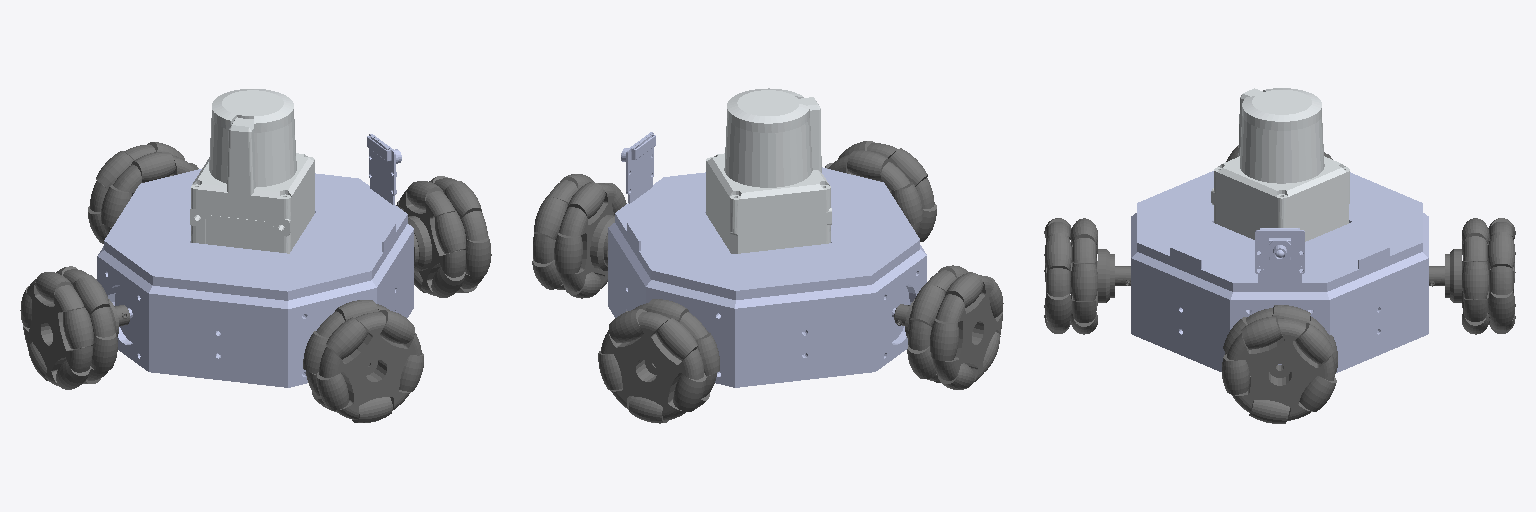
robot.urdf — omni:
<?xml version="1.0" encoding="utf-8"?>
<!-- This URDF was automatically created by SolidWorks to URDF Exporter! Originally created by [author] ([email redacted]) 
     Commit Version: 1.6.0-4-g7f85cfe  Build Version: 1.6.7995.38578
     For more information, please see http://wiki.ros.org/sw_urdf_exporter -->
<robot
  name="omni">
  <link name="base_footprint"/>
  <!-- Connect base_footprint to base_link -->
  <joint name="base_footprint_to_base_link" type="fixed">
    <parent link="base_footprint"/>
    <child link="base_link"/>
    <origin xyz="0 0 0.015" rpy="0 0 0"/> <!-- Adjust z to bring base_footprint to ground level -->
  </joint>
  <link
    name="base_link">
    <inertial>
      <origin
        xyz="4.2217616858381E-05 -1.36406168309289E-05 0.0256330633245304"
        rpy="0 0 0" />
      <mass
        value="0.776934117883959" />
      <inertia
        ixx="0.0012510407641893"
        ixy="-2.12973888399047E-08"
        ixz="-8.13720595075766E-07"
        iyy="0.00125164353489153"
        iyz="2.37085382610402E-07"
        izz="0.00220875992971978" />
    </inertial>
    <visual>
      <origin
        xyz="0 0 0"
        rpy="0 0 0" />
      <geometry>
        <mesh
          filename="package://omni_diff/meshes/omni/base_link.STL" />
      </geometry>
      <material
        name="">
        <color
          rgba="0.792156862745098 0.819607843137255 0.933333333333333 1" />
      </material>
    </visual>
    <collision>
      <origin
        xyz="0 0 0"
        rpy="0 0 0" />
      <geometry>
        <mesh
          filename="package://omni_diff/meshes/omni/base_link.STL" />
      </geometry>
    </collision>
  </link>
  <link
    name="wheel_1_link">
    <inertial>
      <origin
        xyz="-7.73331437414759E-07 1.36449829977667E-06 0.00250496373630286"
        rpy="0 0 0" />
      <mass
        value="0.0573416524778113" />
      <inertia
        ixx="1.13223293476616E-05"
        ixy="-2.95114751911968E-09"
        ixz="3.32124459351346E-10"
        iyy="1.13254060859156E-05"
        iyz="-5.85053936638385E-10"
        izz="2.1083778131878E-05" />
    </inertial>
    <visual>
      <origin
        xyz="0 0 0"
        rpy="0 0 0" />
      <geometry>
        <mesh
          filename="package://omni_diff/meshes/omni/wheel_1_link.STL" />
      </geometry>
      <material
        name="">
        <color
          rgba="0.498039215686275 0.498039215686275 0.498039215686275 1" />
      </material>
    </visual>
    <collision>
      <origin
        xyz="0 0 0"
        rpy="0 0 0" />
      <geometry>
        <mesh
          filename="package://omni_diff/meshes/omni/wheel_1_link.STL" />
      </geometry>
    </collision>
  </link>
  <joint
    name="wheel_1_joint"
    type="continuous">
    <origin
      xyz="0 -0.100246212024587 0.0205"
      rpy="1.57079632679491 0 0" />
    <parent
      link="base_link" />
    <child
      link="wheel_1_link" />
    <axis
      xyz="0 0 1" />
  </joint>
  <link
    name="wheel_2_link">
    <inertial>
      <origin
        xyz="-7.17667867564109E-07 -1.39141786776459E-06 0.00250496280406023"
        rpy="0 0 0" />
      <mass
        value="0.0573416543957745" />
      <inertia
        ixx="1.1322094172155E-05"
        ixy="2.81602792280367E-09"
        ixz="3.07984717325495E-10"
        iyy="1.13256412752839E-05"
        iyz="5.98180667761317E-10"
        izz="2.10837781360202E-05" />
    </inertial>
    <visual>
      <origin
        xyz="0 0 0"
        rpy="0 0 0" />
      <geometry>
        <mesh
          filename="package://omni_diff/meshes/omni/wheel_2_link.STL" />
      </geometry>
      <material
        name="">
        <color
          rgba="0.498039215686275 0.498039215686275 0.498039215686275 1" />
      </material>
    </visual>
    <collision>
      <origin
        xyz="0 0 0"
        rpy="0 0 0" />
      <geometry>
        <mesh
          filename="package://omni_diff/meshes/omni/wheel_2_link.STL" />
      </geometry>
    </collision>
  </link>
  <joint
    name="wheel_2_joint"
    type="continuous">
    <origin
      xyz="0 0.100246212024587 0.0205"
      rpy="-1.5707963267949 0 0" />
    <parent
      link="base_link" />
    <child
      link="wheel_2_link" />
    <axis
      xyz="0 0 1" />
  </joint>
  <link
    name="wheel_3_link">
    <inertial>
      <origin
        xyz="1.51908366138875E-06 3.88345460337891E-07 0.00250496393125138"
        rpy="0 0 0" />
      <mass
        value="0.0573416520711861" />
      <inertia
        ixx="1.13268774307609E-05"
        ixy="1.42026119981065E-09"
        ixz="-6.51892959609373E-10"
        iyy="1.13208580119281E-05"
        iyz="-1.66006995154101E-10"
        izz="2.10837781377862E-05" />
    </inertial>
    <visual>
      <origin
        xyz="0 0 0"
        rpy="0 0 0" />
      <geometry>
        <mesh
          filename="package://omni_diff/meshes/omni/wheel_3_link.STL" />
      </geometry>
      <material
        name="">
        <color
          rgba="0.498039215686275 0.498039215686275 0.498039215686275 1" />
      </material>
    </visual>
    <collision>
      <origin
        xyz="0 0 0"
        rpy="0 0 0" />
      <geometry>
        <mesh
          filename="package://omni_diff/meshes/omni/wheel_3_link.STL" />
      </geometry>
    </collision>
  </link>
  <joint
    name="wheel_3_joint"
    type="continuous">
    <origin
      xyz="0.100246212024587 0 0.0205"
      rpy="-1.5707963267949 0 -1.5707963267949" />
    <parent
      link="base_link" />
    <child
      link="wheel_3_link" />
    <axis
      xyz="0 0 1" />
  </joint>
  <link
    name="wheel_4_link">
    <inertial>
      <origin
        xyz="5.93270891108277E-07 1.45176169149761E-06 0.00250496284038063"
        rpy="0 0 0" />
      <mass
        value="0.0573416543210749" />
      <inertia
        ixx="1.13216344271888E-05"
        ixy="2.46736600754328E-09"
        ixz="-2.54928006956048E-10"
        iyy="1.13261010157933E-05"
        iyz="-6.22521577202223E-10"
        izz="2.1083778134734E-05" />
    </inertial>
    <visual>
      <origin
        xyz="0 0 0"
        rpy="0 0 0" />
      <geometry>
        <mesh
          filename="package://omni_diff/meshes/omni/wheel_4_link.STL" />
      </geometry>
      <material
        name="">
        <color
          rgba="0.498039215686275 0.498039215686275 0.498039215686275 1" />
      </material>
    </visual>
    <collision>
      <origin
        xyz="0 0 0"
        rpy="0 0 0" />
      <geometry>
        <mesh
          filename="package://omni_diff/meshes/omni/wheel_4_link.STL" />
      </geometry>
    </collision>
  </link>
  <joint
    name="wheel_4_joint"
    type="continuous">
    <origin
      xyz="-0.100246212024587 0 0.0205"
      rpy="-1.5707963267949 0 1.57079632679491" />
    <parent
      link="base_link" />
    <child
      link="wheel_4_link" />
    <axis
      xyz="0 0 1" />
  </joint>
  <link
    name="camera_link">
    <inertial>
      <origin
        xyz="-0.00570924275550753 2.63369360276738E-05 -0.000162546959287517"
        rpy="0 0 0" />
      <mass
        value="0.00154848311785293" />
      <inertia
        ixx="9.81433995869744E-08"
        ixy="1.55151579933722E-11"
        ixz="2.74786653138132E-09"
        iyy="6.15272705564258E-08"
        iyz="3.76721137527356E-10"
        izz="5.63299136111501E-08" />
    </inertial>
    <visual>
      <origin
        xyz="0 0 0"
        rpy="0 0 0" />
      <geometry>
        <mesh
          filename="package://omni_diff/meshes/omni/camera_link.STL" />
      </geometry>
      <material
        name="">
        <color
          rgba="0.792156862745098 0.819607843137255 0.933333333333333 1" />
      </material>
    </visual>
    <collision>
      <origin
        xyz="0 0 0"
        rpy="0 0 0" />
      <geometry>
        <mesh
          filename="package://omni_diff/meshes/omni/camera_link.STL" />
      </geometry>
    </collision>
  </link>
  <joint
    name="camera_joint"
    type="fixed">
    <origin
      xyz="0.0775462120245874 0 0.0695"
      rpy="0 0 0" />
    <parent
      link="base_link" />
    <child
      link="camera_link" />
    <axis
      xyz="0 0 0" />
  </joint>
  <link
    name="imu_link">
    <inertial>
      <origin
        xyz="4.57501099858648E-05 -4.57501099858787E-05 0.000488343705367662"
        rpy="0 0 0" />
      <mass
        value="0.000302850245192701" />
      <inertia
        ixx="7.75930196249146E-09"
        ixy="-1.72720502873062E-09"
        ixz="6.34808961588485E-13"
        iyy="7.75930196249146E-09"
        iyz="-6.34808961588458E-13"
        izz="1.54683861524513E-08" />
    </inertial>
    <visual>
      <origin
        xyz="0 0 0"
        rpy="0 0 0" />
      <geometry>
        <mesh
          filename="package://omni_diff/meshes/omni/imu_link.STL" />
      </geometry>
      <material
        name="">
        <color
          rgba="0.666666666666667 0.698039215686274 0.768627450980392 1" />
      </material>
    </visual>
    <collision>
      <origin
        xyz="0 0 0"
        rpy="0 0 0" />
      <geometry>
        <mesh
          filename="package://omni_diff/meshes/omni/imu_link.STL" />
      </geometry>
    </collision>
  </link>
  <joint
    name="imu_joint"
    type="fixed">
    <origin
      xyz="-0.000173723647626037 0.000173723647625995 0.00400000000000001"
      rpy="0 0 0" />
    <parent
      link="base_link" />
    <child
      link="imu_link" />
    <axis
      xyz="0 0 0" />
  </joint>
  <link
    name="lidar_link">
    <inertial>
      <origin
        xyz="-6.08162525894684E-09 -0.00258459265937456 -0.0192244596068266"
        rpy="0 0 0" />
      <mass
        value="0.36416636212167" />
      <inertia
        ixx="9.30309683309989E-05"
        ixy="-3.45612498193269E-11"
        ixz="3.27004824168747E-11"
        iyy="9.15048641049864E-05"
        iyz="1.20873061883238E-06"
        izz="0.000123189101408121" />
    </inertial>
    <visual>
      <origin
        xyz="0 0 0"
        rpy="0 0 0" />
      <geometry>
        <mesh
          filename="package://omni_diff/meshes/omni/lidar_link.STL" />
      </geometry>
      <material
        name="">
        <color
          rgba="0.898039215686275 0.917647058823529 0.929411764705882 1" />
      </material>
    </visual>
    <collision>
      <origin
        xyz="0 0 0"
        rpy="0 0 0" />
      <geometry>
        <mesh
          filename="package://omni_diff/meshes/omni/lidar_link.STL" />
      </geometry>
    </collision>
  </link>
  <joint
    name="lidar_joint"
    type="fixed">
    <origin
      xyz="0.000506090323826577 0.00262741066738623 0.0951306817990901"
      rpy="0 0 -0.78539816339745" />
    <parent
      link="base_link" />
    <child
      link="lidar_link" />
    <axis
      xyz="0 0 0" />
  </joint>
   <!-- Depth Camera Plugin -->
<gazebo reference="camera_link">
  <sensor name="depth_camera_sensor" type="depth">
    <always_on>1</always_on>
    <update_rate>30</update_rate>
    <camera>
      <horizontal_fov>1.0472</horizontal_fov>
      <image>
        <width>640</width>
        <height>480</height>
        <format>R8G8B8</format>
      </image>
      <clip>
        <near>0.1</near>
        <far>100</far>
      </clip>
    </camera>
    <plugin name="depth_camera_plugin" filename="libgazebo_ros_depth_camera.so">
      <robotNamespace>/camera/depth</robotNamespace>
      <imageTopicName>image_raw</imageTopicName>
      <depthImageTopicName>depth/image_raw</depthImageTopicName>
      <pointCloudTopicName>depth/points</pointCloudTopicName>
      <cameraInfoTopicName>camera_info</cameraInfoTopicName>
      <frameName>camera_link</frameName>
    </plugin>
  </sensor>
</gazebo>
  <!-- LiDAR Plugin -->
  <gazebo reference="lidar_link">
    <material>Gazebo/FlatBlack</material>
    <sensor type="ray" name="head_rplidar_sensor">
      <pose>0 0 0 0 0 0</pose>
      <visualize>true</visualize>
      <update_rate>10.0</update_rate> 
      <ray>
        <scan>
          <horizontal>
            <samples>720</samples> 
            <resolution>1</resolution>
            <min_angle>-3.1415</min_angle> 
            <max_angle>3.1415</max_angle>
          </horizontal>
        </scan>
        <range>
          <min>0.120</min>
          <max>10</max>
          <resolution>0.015</resolution>
        </range>
        <noise>
          <type>gaussian</type>
          <mean>0.0</mean>
          <stddev>0.01</stddev>
        </noise>
      </ray>
      <plugin name="gazebo_ros_head_rplidar_controller" filename="libgazebo_ros_laser.so">
        <topicName>/scan</topicName>
        <frameName>lidar_link</frameName>
        <gaussianNoise>0.01</gaussianNoise>
      </plugin>
    </sensor>
  </gazebo>

  <!-- Planar Move Plugin -->
  <gazebo>
    <plugin name="planar_move" filename="libgazebo_ros_planar_move.so">
      <ros>
        <namespace>/</namespace>
        <remapping>cmd_vel:=/cmd_vel</remapping>
        <remapping>odom:=/odom</remapping>
      </ros>
      <commandTopic>cmd_vel</commandTopic>
      <odometryTopic>odom</odometryTopic>
      <odometryFrame>odom</odometryFrame>
      <robotBaseFrame>base_footprint</robotBaseFrame>
      <odometryRate>100.0</odometryRate>
      <cmdTimeout>1.0</cmdTimeout>
      <publishOdomTF>true</publishOdomTF>
      <velocityDecay>0.01</velocityDecay>
    </plugin>
  </gazebo>

  <!-- IMU Plugin -->
  <gazebo reference="imu_link">
    <gravity>true</gravity>
    <sensor name="imu_sensor" type="imu">
      <always_on>true</always_on>
      <update_rate>100</update_rate>
      <visualize>true</visualize>
      <topic>__default_topic__</topic>
      <plugin filename="libgazebo_ros_imu_sensor.so" name="imu_plugin">
        <topicName>imu</topicName>
        <bodyName>imu_link</bodyName>
        <updateRateHZ>10.0</updateRateHZ>
        <gaussianNoise>0.0</gaussianNoise>
        <xyzOffset>0 0 0</xyzOffset>
        <rpyOffset>0 0 0</rpyOffset>
        <frameName>imu_link</frameName>
        <initialOrientationAsReference>false</initialOrientationAsReference>
      </plugin>
      <pose>0 0 0 0 0 0</pose>
    </sensor>
  </gazebo>
</robot>

--- Render facts (derived) ---
3 views of the same robot in one strip: view 1: azimuth 30°, elevation 25°; view 2: azimuth 150°, elevation 25°; view 3: azimuth 270°, elevation 25° (orthographic).
Robot: omni — 9 links, 8 joints (4 continuous, 4 fixed); root link base_footprint; default pose: every joint at zero.
Visible links, largest first — view 1: base_link, lidar_link, wheel_1_link, wheel_4_link, wheel_3_link, wheel_2_link, camera_link; view 2: base_link, lidar_link, wheel_2_link, wheel_4_link, wheel_3_link, wheel_1_link, camera_link; view 3: base_link, lidar_link, wheel_3_link, wheel_2_link, wheel_1_link, camera_link.
Link boxes in pixels (box(x1,y1,x2,y2)): base_link: box(97, 169, 413, 387); lidar_link: box(190, 89, 314, 253); wheel_1_link: box(303, 300, 423, 422); wheel_4_link: box(20, 266, 129, 389); wheel_3_link: box(396, 176, 491, 297); wheel_2_link: box(88, 142, 198, 243); camera_link: box(367, 134, 401, 195); base_link: box(608, 167, 926, 387); lidar_link: box(706, 88, 831, 253); wheel_2_link: box(598, 299, 719, 423); wheel_4_link: box(894, 265, 1003, 389); wheel_3_link: box(532, 174, 626, 298); wheel_1_link: box(825, 141, 936, 241); camera_link: box(621, 132, 655, 194); base_link: box(1131, 171, 1428, 372); lidar_link: box(1211, 88, 1349, 241); wheel_3_link: box(1222, 305, 1337, 423); wheel_2_link: box(1429, 218, 1515, 334); wheel_1_link: box(1044, 218, 1130, 334); camera_link: box(1255, 228, 1304, 273).
Bounding box of the posed robot: 0.2354 × 0.2354 × 0.1246 m (x, y, z).
Meshes: 8 distinct files referenced, 8 mesh visuals loaded (8 binary STL).
